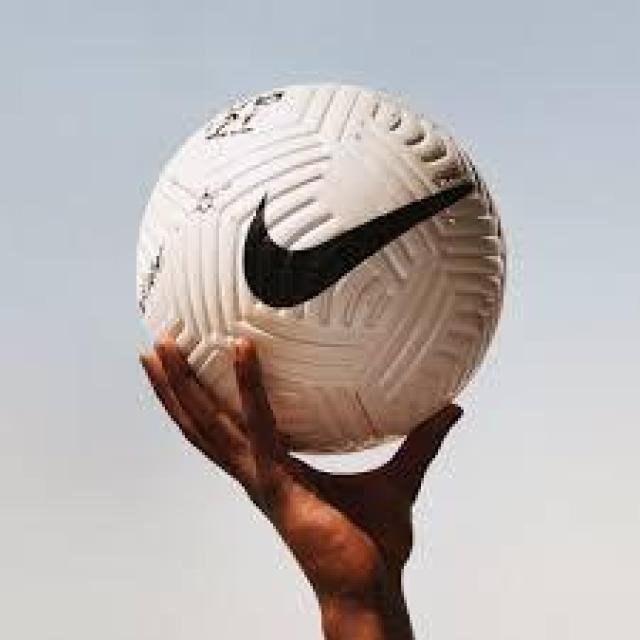Soccer Ball: (136, 82, 506, 458)
